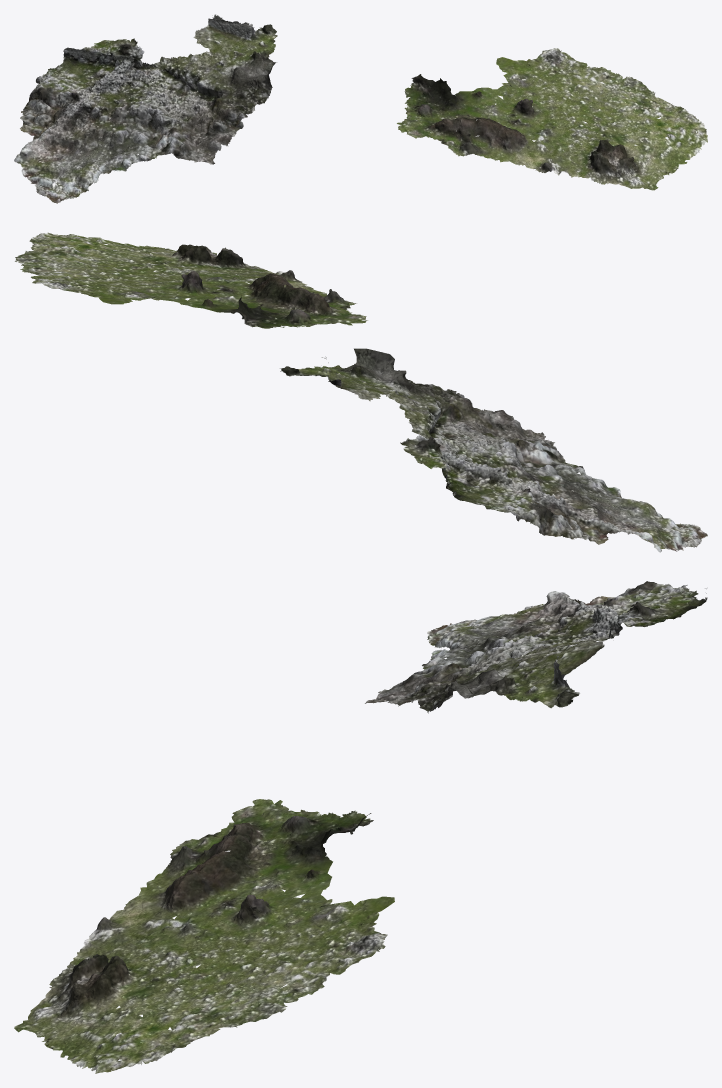
3 renders of one model, top to bottom at view 1: azimuth 30°, elevation 25°; view 2: azimuth 150°, elevation 25°; view 3: azimuth 270°, elevation 25°, orthographic. The views are drawn at different scales.
Bounding box in the file's own units: 61.08 × 11.56 × 39.23.
Materials: 1 (1 with a texture image).
